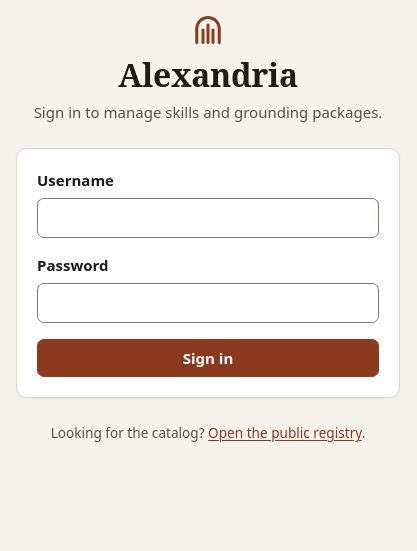
Login › explains wrong credentials and clears the password
In the field labelled "Username": (208, 218) [37, 198, 379, 238], type "ada"
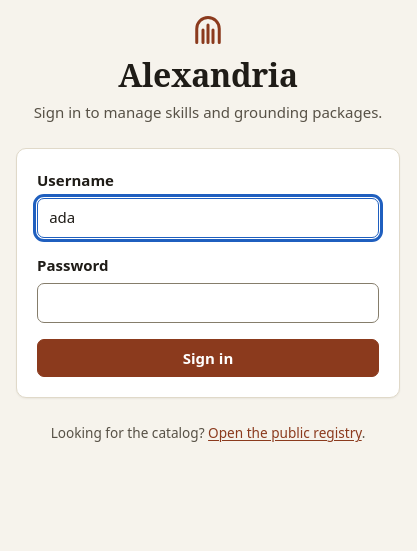
In the password field labelled "Password": (208, 303) [37, 283, 379, 323], type "wrong password"
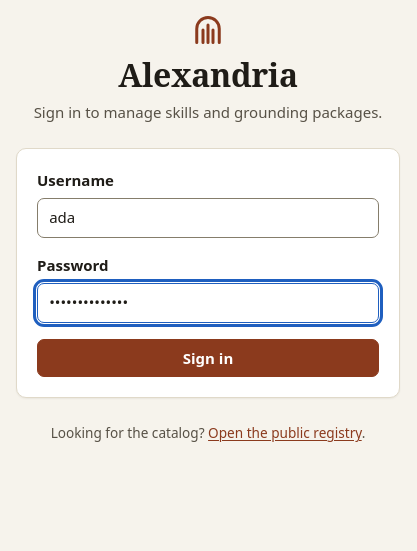
Click the button "Sign in": (208, 358) [37, 339, 379, 377]
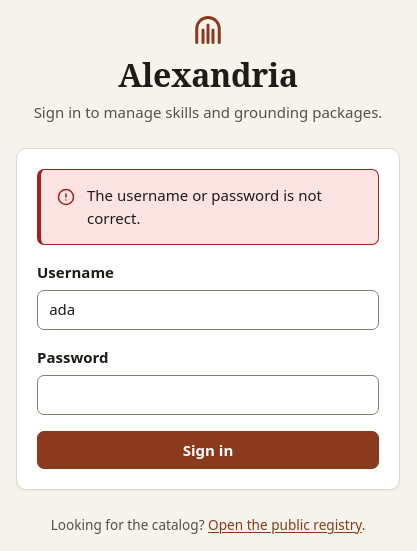
Check: the message reads "The username or password is not correct.", box [87, 185, 322, 228]
Check: the password field labelled "Password" is empty, box [37, 375, 379, 415]
